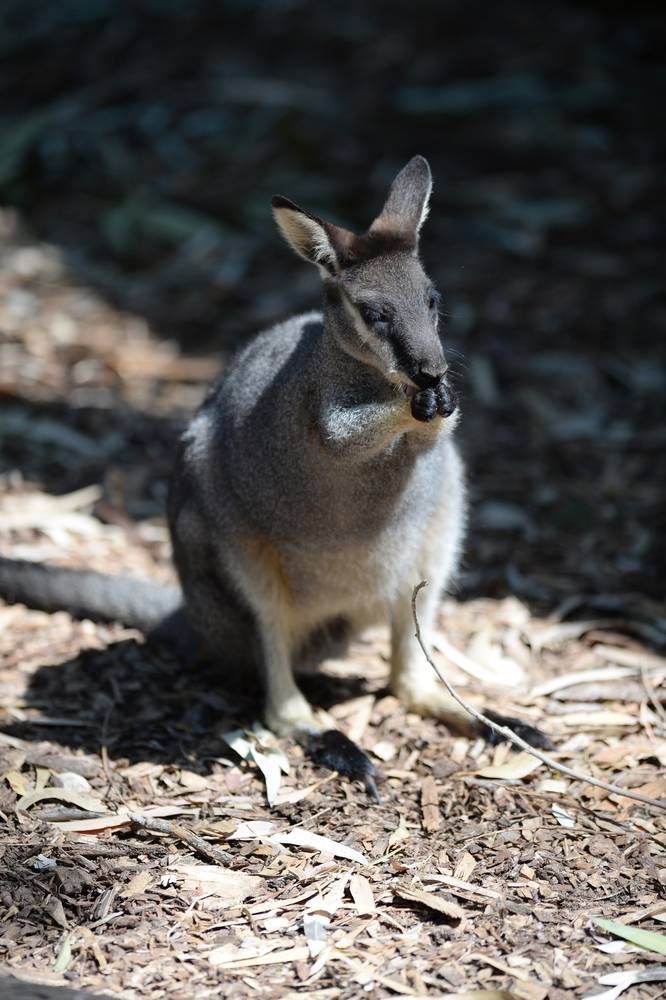kangaroo: (9, 142, 568, 783)
